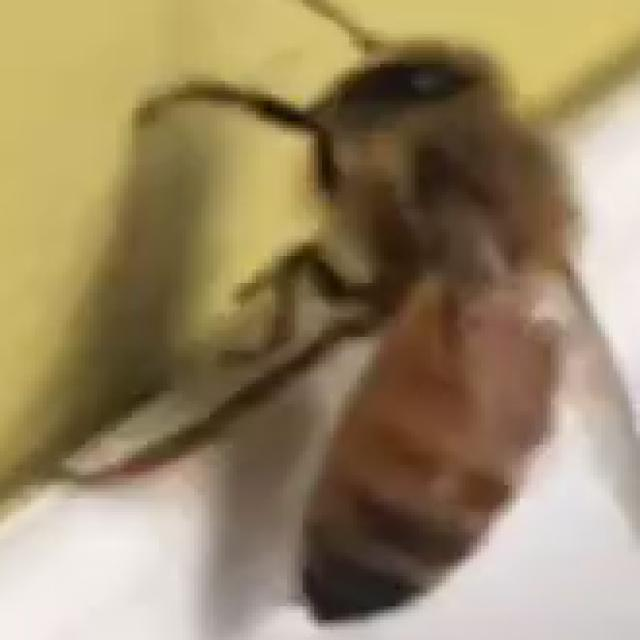honeybee: (170, 20, 640, 609)
